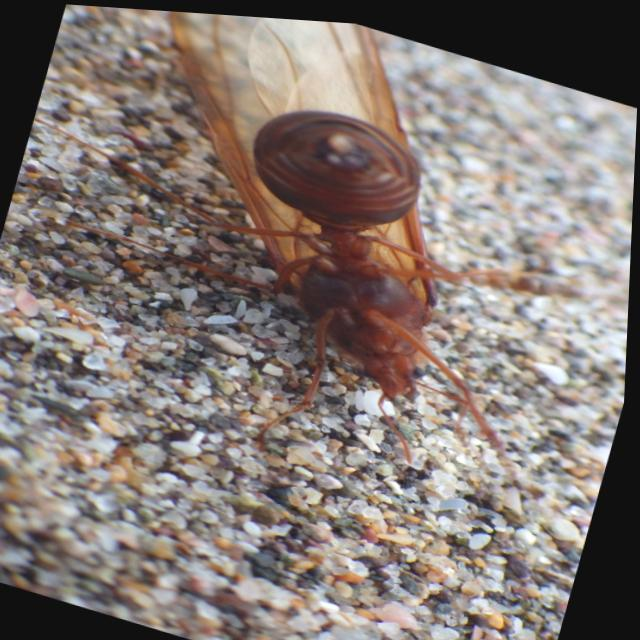Dead-Male-Alate: (0, 0, 623, 501)
